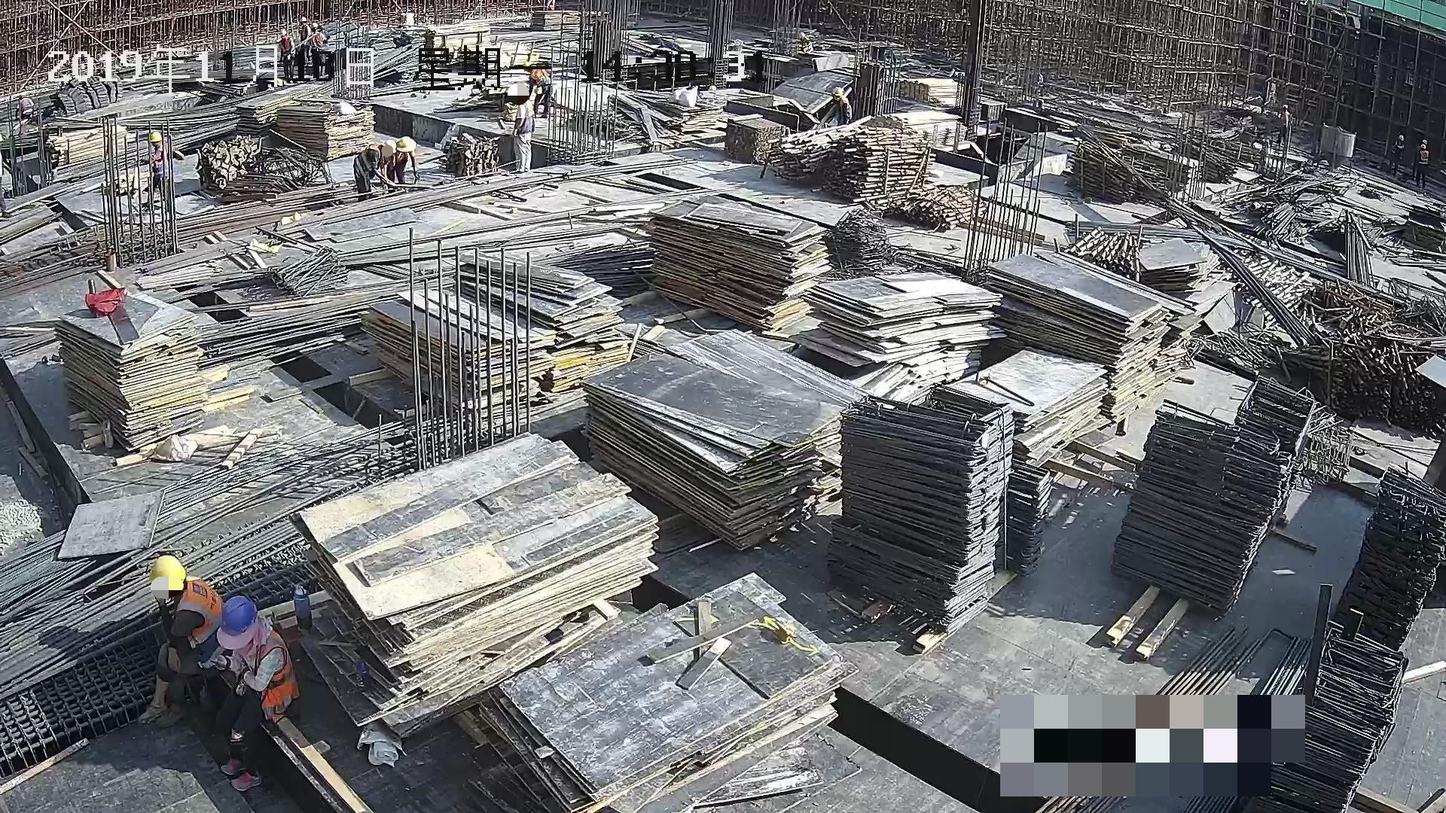hat: (148, 553, 188, 604), (221, 596, 260, 637), (511, 86, 528, 103), (149, 131, 163, 147)
person: (205, 591, 304, 796), (137, 552, 228, 734), (137, 130, 175, 218), (508, 84, 536, 177)
